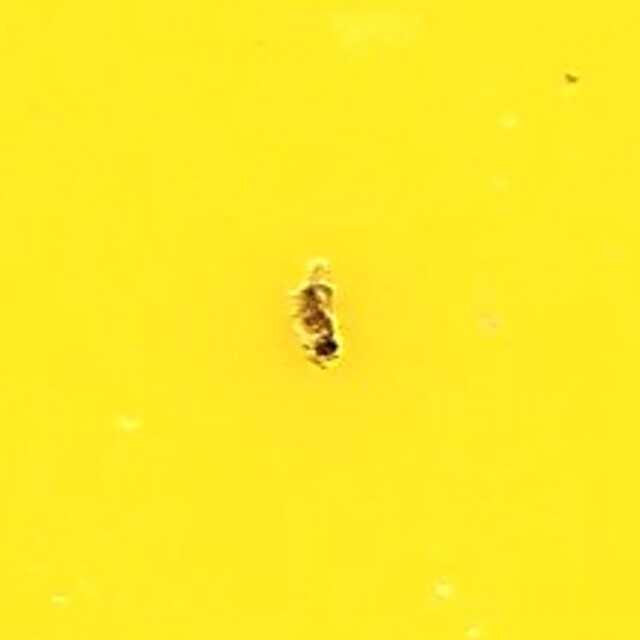Brachycera: (290, 274, 350, 366)
